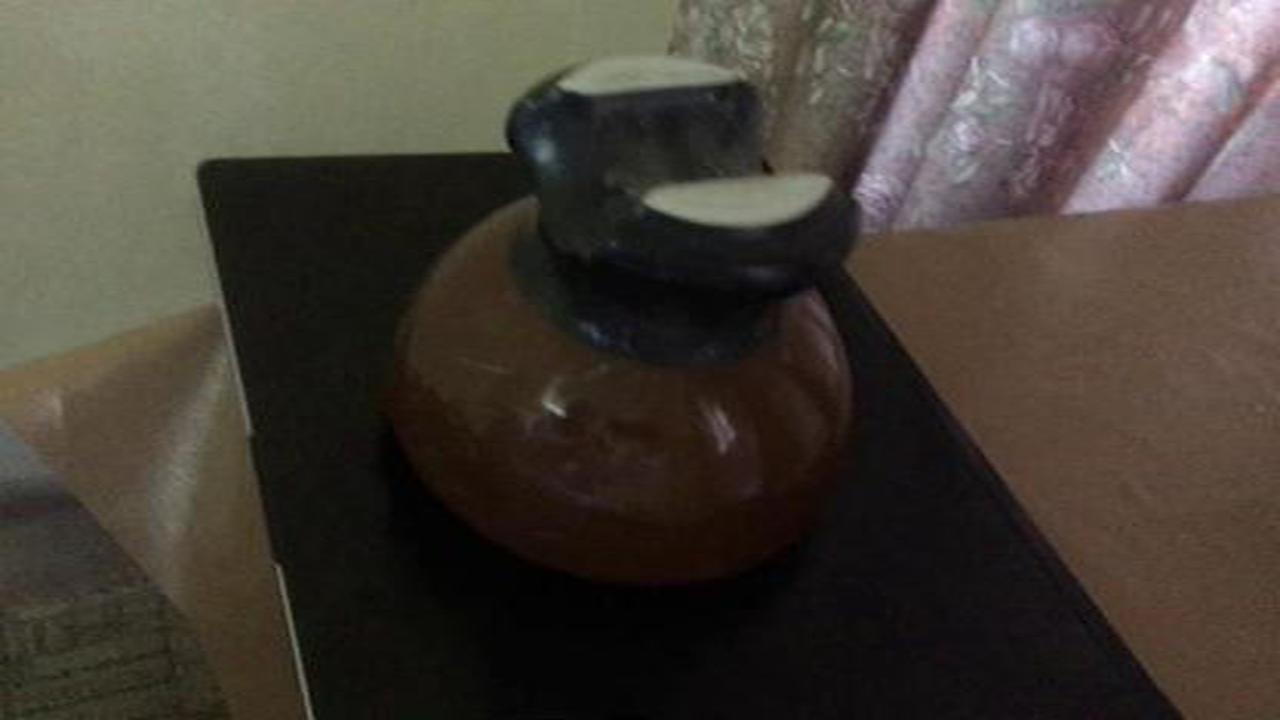insulator_pin: (367, 40, 887, 599)
